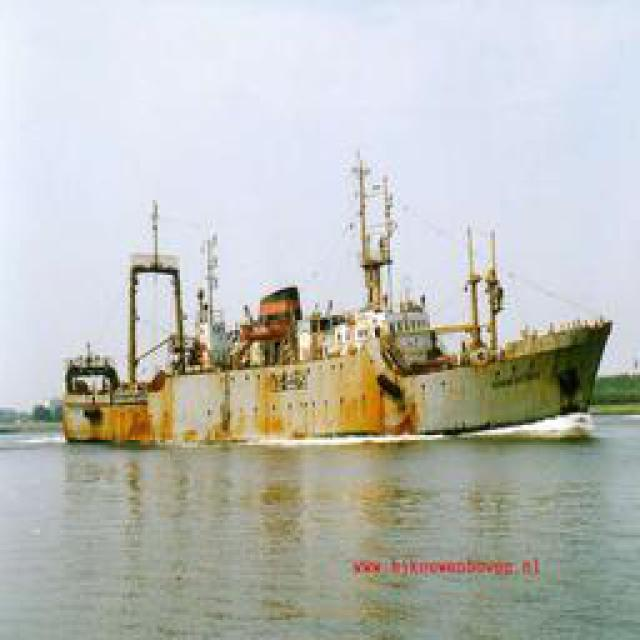Ship: (62, 167, 602, 445)
